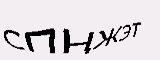В: (41, 16, 58, 42)
Г: (55, 13, 71, 37)
З: (105, 10, 123, 35)
П: (68, 11, 87, 35)
С: (88, 8, 107, 36)
